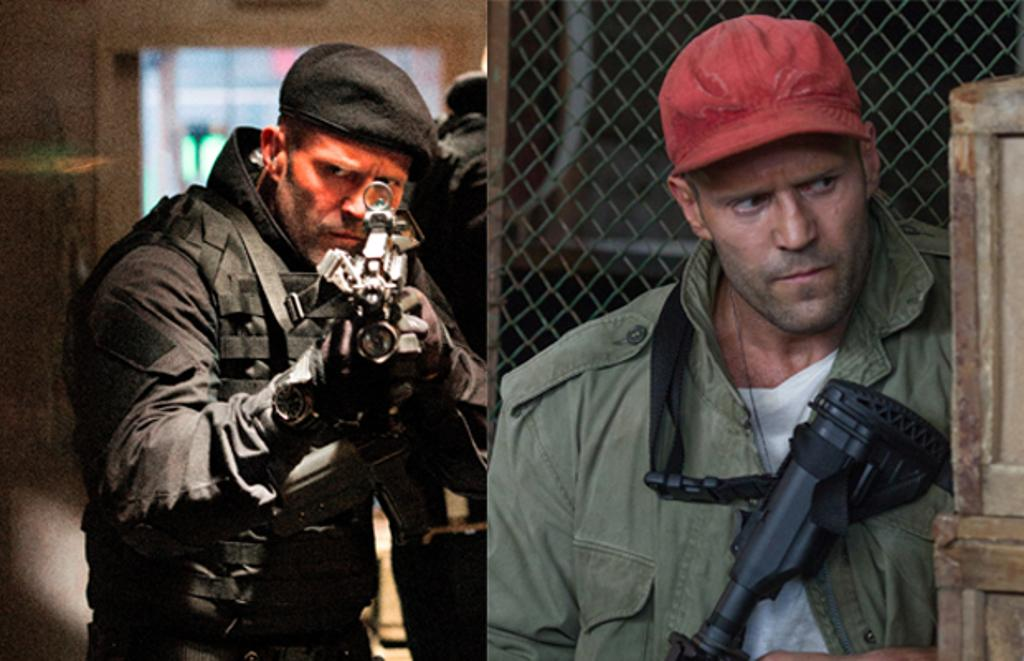face: (702, 106, 864, 320), (282, 110, 408, 268)
